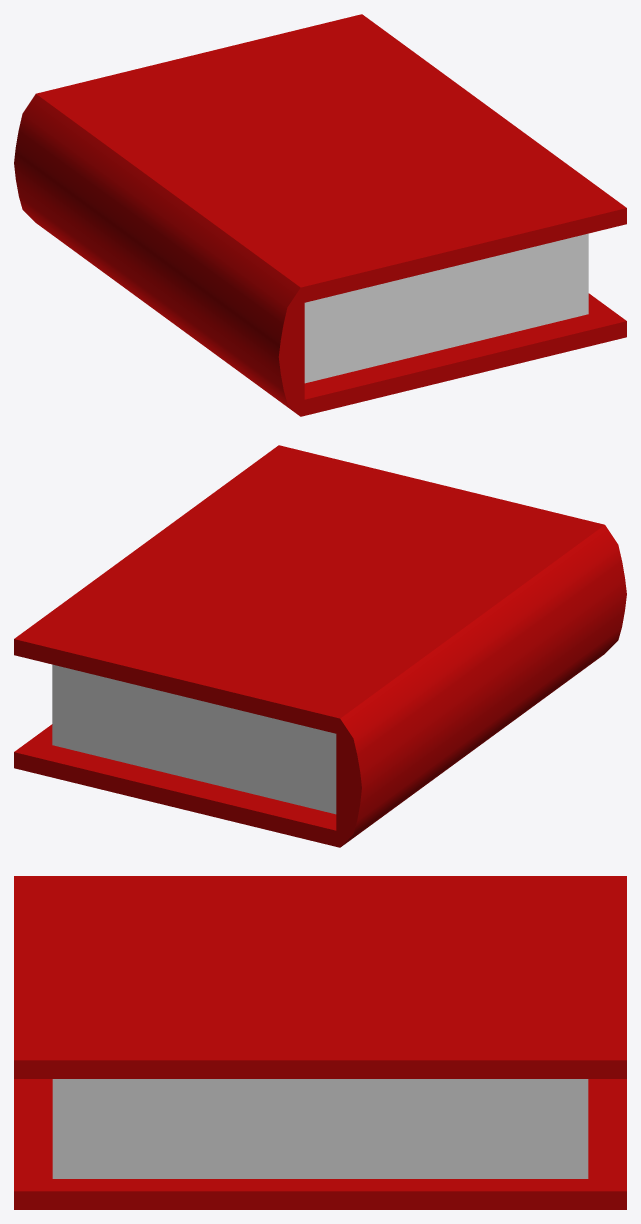
Rendered from book.fbx.
3 renders of one model, top to bottom at view 1: azimuth 30°, elevation 25°; view 2: azimuth 150°, elevation 25°; view 3: azimuth 270°, elevation 25°, orthographic. The views are drawn at different scales.
Parts seen in each view (by area): view 1: pCube3, pCube1, pCube2; view 2: pCube3, pCube1, pCube2; view 3: pCube3, pCube1, pCube2.
Part boxes in pixels (x1,y1,x2,y2): pCube3: [14, 14, 626, 416]; pCube1: [304, 266, 588, 383]; pCube2: [304, 233, 588, 334]; pCube3: [14, 445, 626, 847]; pCube1: [52, 697, 336, 814]; pCube2: [52, 664, 336, 765]; pCube3: [14, 876, 626, 1209]; pCube1: [52, 1123, 588, 1178]; pCube2: [52, 1079, 588, 1122].
Size of the model in its own units: 3.47 by 1.23 by 4.58.
